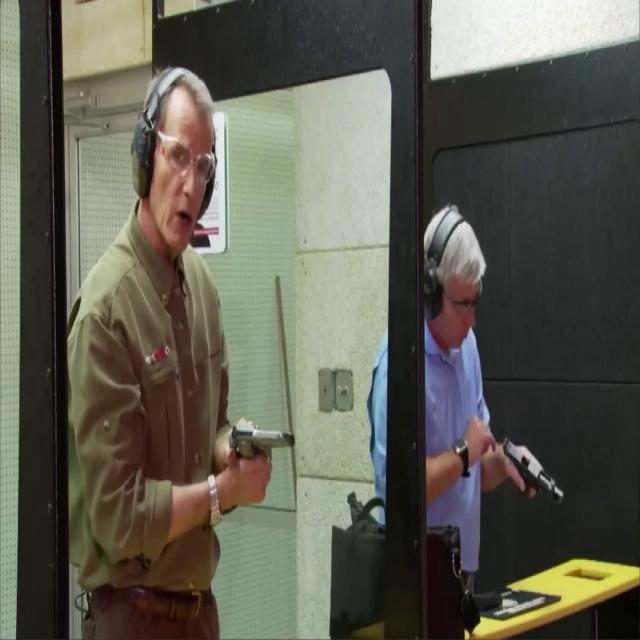weapon: (500, 436, 566, 503), (226, 422, 296, 464)
